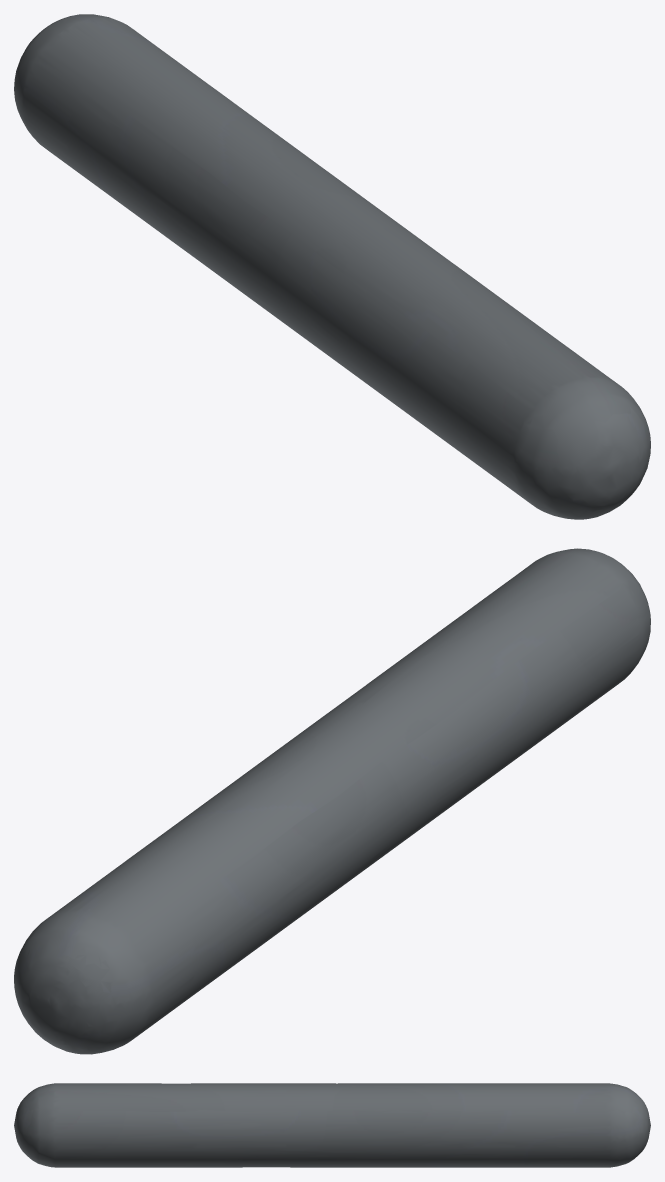
Rendered from analq99.glb.
The picture shows the model from 3 angles, top to bottom: view 1: azimuth 30°, elevation 25°; view 2: azimuth 150°, elevation 25°; view 3: azimuth 270°, elevation 25°; orthographic projection. The views are drawn at different scales.
Parts seen in each view (by area): view 1: airframe; view 2: airframe; view 3: airframe.
Boxes of the visible parts, <box> form: airframe: <box>14,14,650,519</box>; airframe: <box>14,548,650,1054</box>; airframe: <box>14,1083,650,1167</box>.
Size of the model in its own units: 0.6204 by 0.6202 by 4.7.
Materials: 1 (1 with a texture image).
